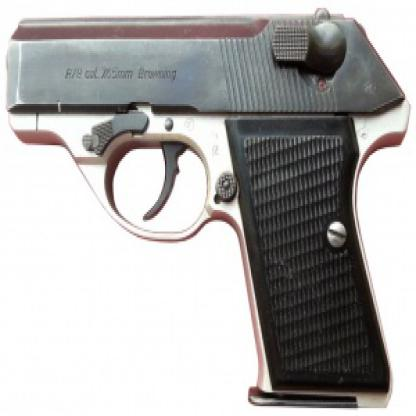Guns: (0, 0, 415, 414)
